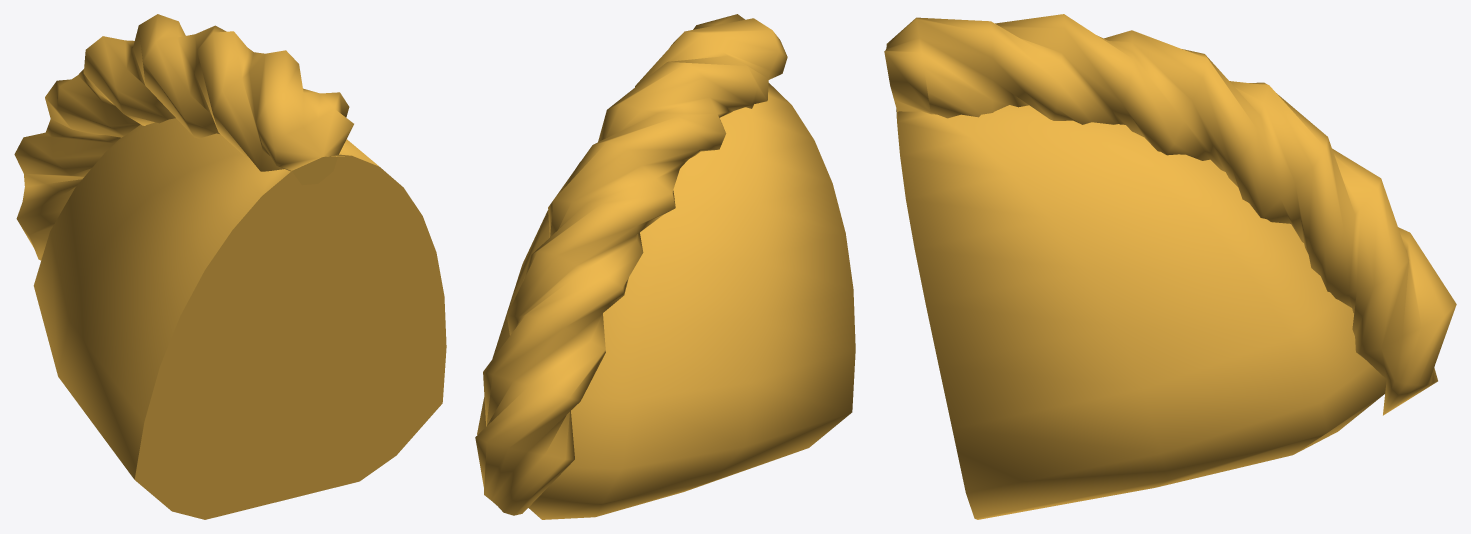
Rendered from Mitadempanada2.fbx.
The picture shows the model from 3 angles, left to right: view 1: azimuth 30°, elevation 25°; view 2: azimuth 150°, elevation 25°; view 3: azimuth 270°, elevation 25°; orthographic projection. The views are drawn at different scales.
Parts seen in each view (by area): view 1: MitadEmpanada2; view 2: MitadEmpanada2; view 3: MitadEmpanada2.
Boxes of the visible parts, bbox=[...] form: MitadEmpanada2: bbox=[14, 14, 446, 519]; MitadEmpanada2: bbox=[475, 14, 855, 519]; MitadEmpanada2: bbox=[884, 14, 1456, 519].
Bounding box in the file's own units: 64.48 × 88.47 × 101.
